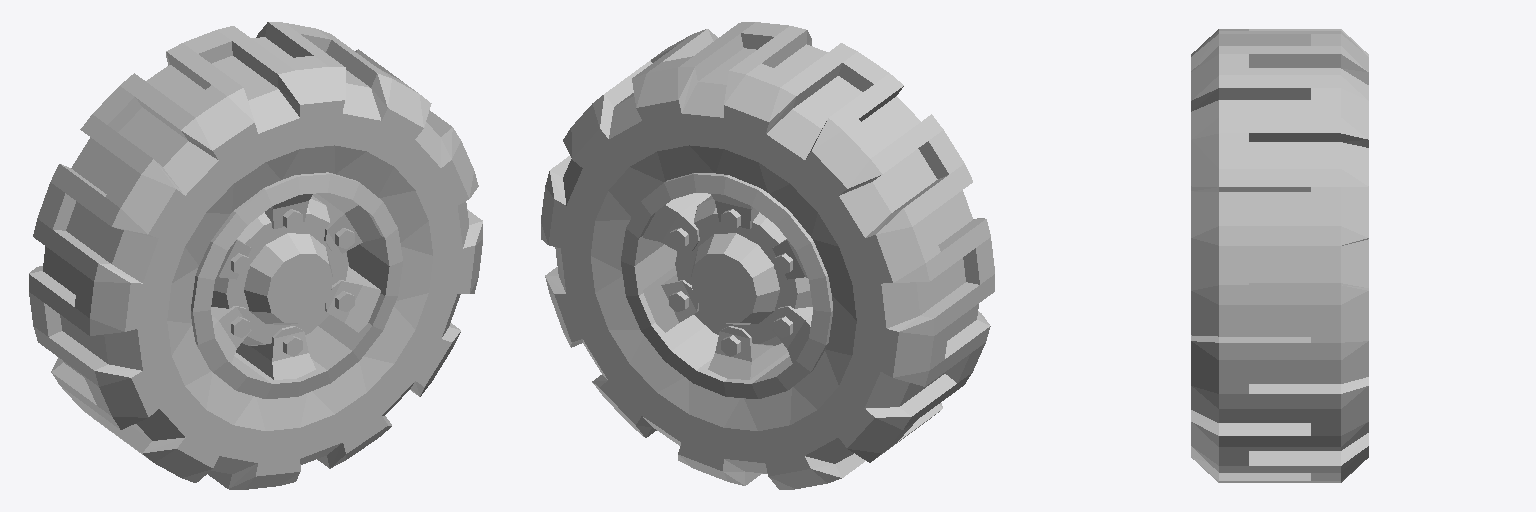
The model's file is fant_offroad_wheel_large_1.obj.
3 views of the same model, side by side, from view 1: azimuth 30°, elevation 25°; view 2: azimuth 150°, elevation 25°; view 3: azimuth 270°, elevation 25° (orthographic).
Parts seen in each view (by area): view 1: fant_wheel_large_1_Mesh; view 2: fant_wheel_large_1_Mesh; view 3: fant_wheel_large_1_Mesh.
Boxes of the visible parts, <box> form: fant_wheel_large_1_Mesh: <box>29,22,482,489</box>; fant_wheel_large_1_Mesh: <box>541,22,994,489</box>; fant_wheel_large_1_Mesh: <box>1191,29,1368,482</box>.
Size of the model in its own units: 5.15 by 5.15 by 2.01.